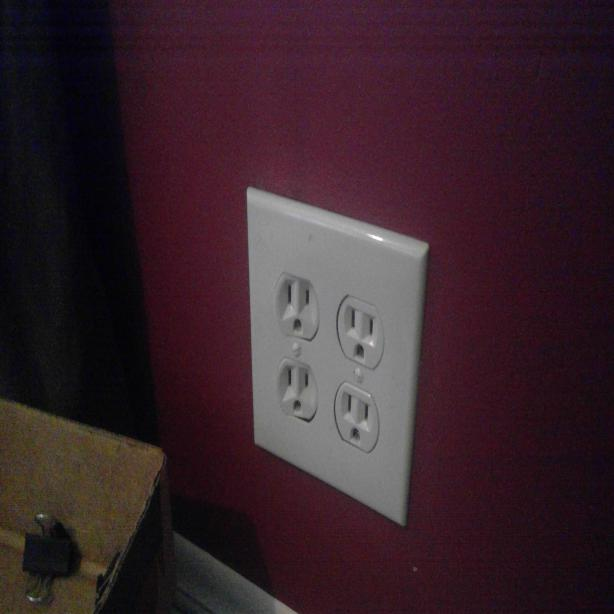typeb: (339, 292, 385, 372), (334, 381, 381, 458), (275, 270, 320, 346), (272, 363, 318, 420)
